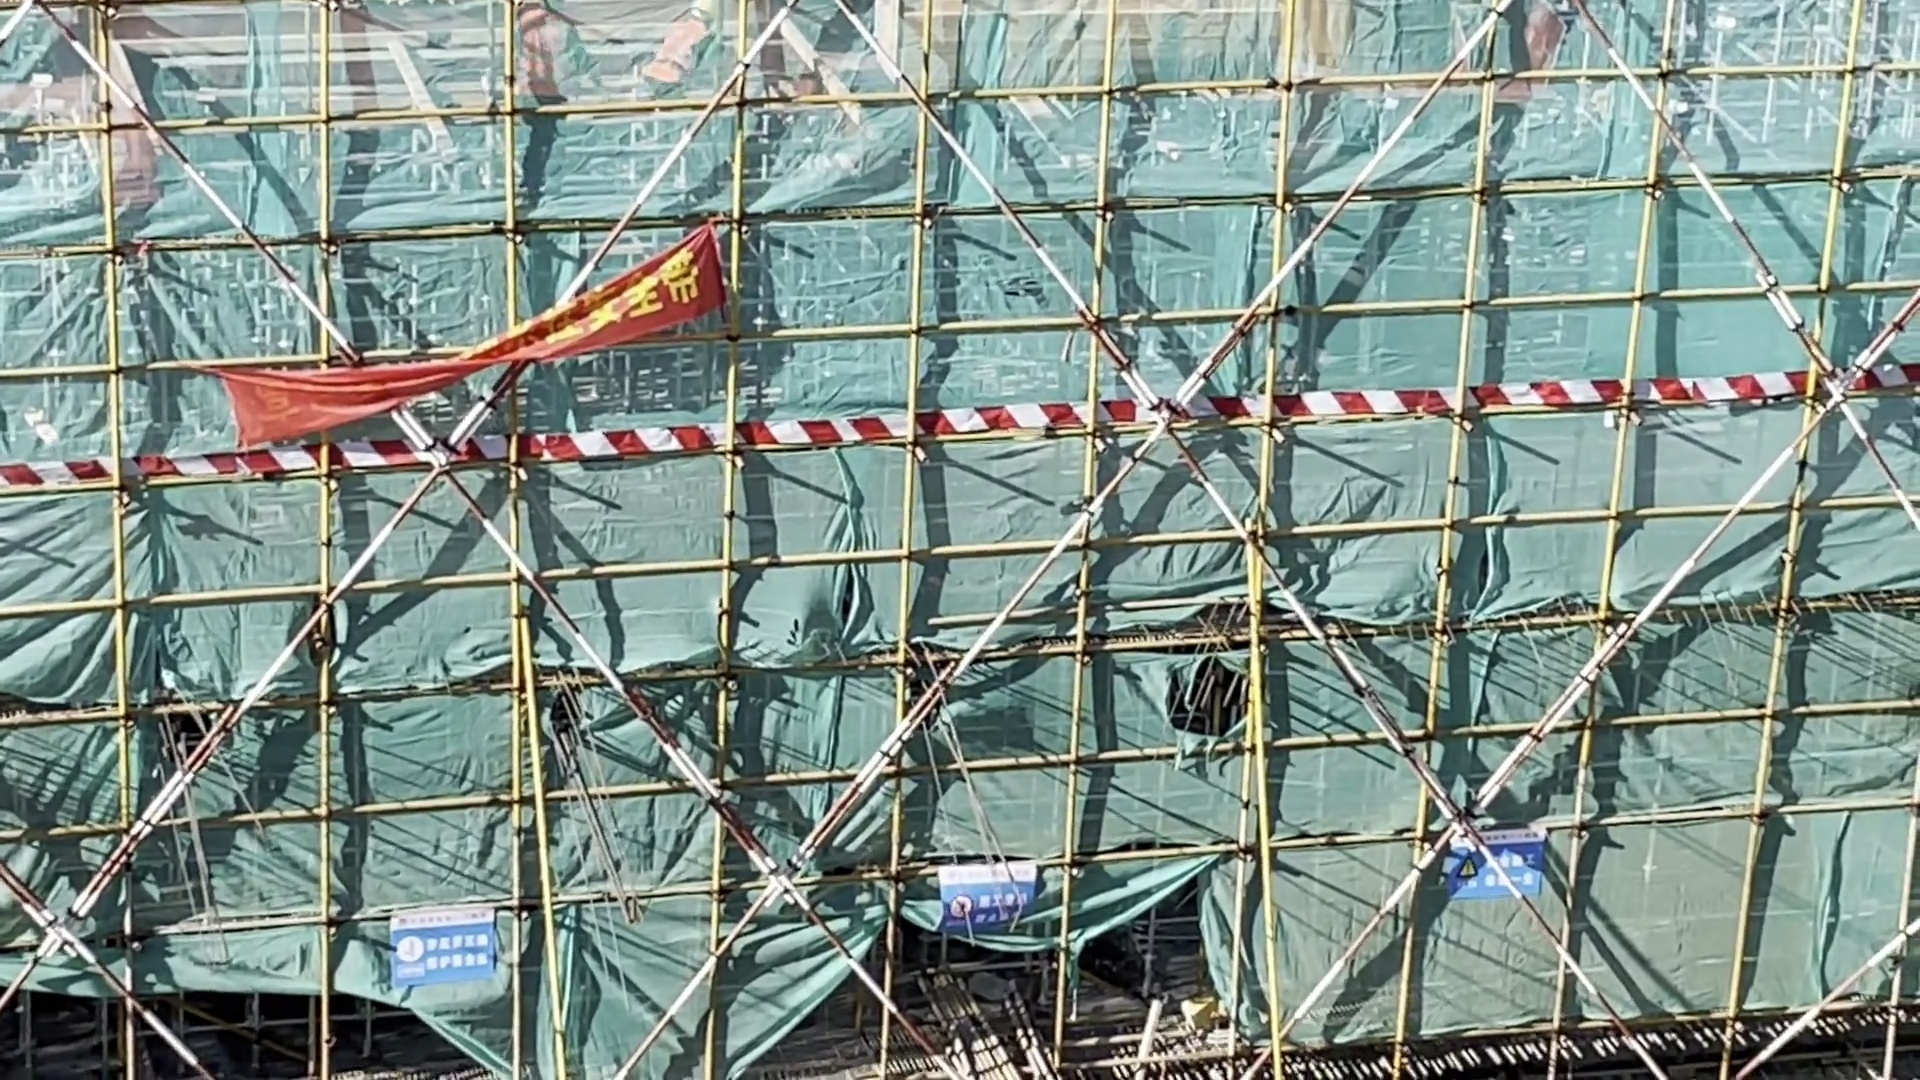slogan: (198, 214, 760, 458), (377, 855, 509, 996), (1425, 812, 1561, 919), (932, 847, 1043, 949)
